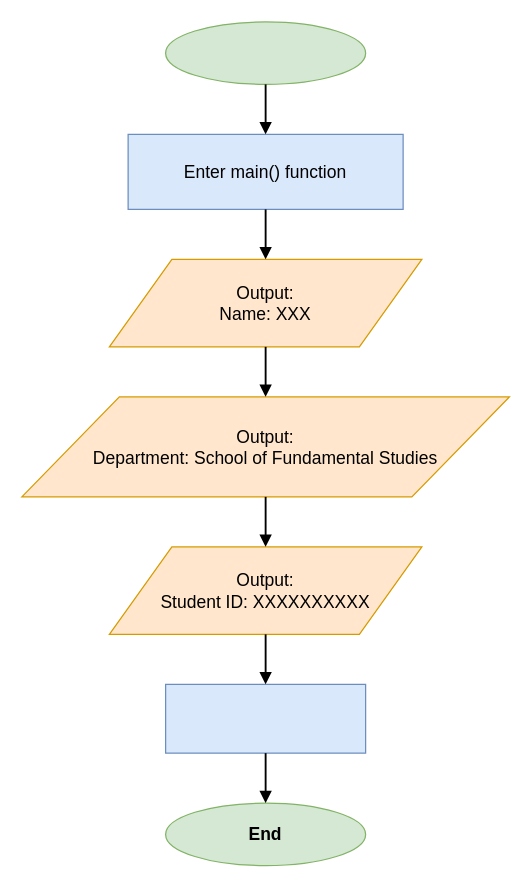
The diagram is 531 pixels wide and 888 high, and some of its shapes have lost their labels. Each missing label, with the centre of its shape:
"Return 0" belongs at point 265,718.
"Start" belongs at point 265,52.
